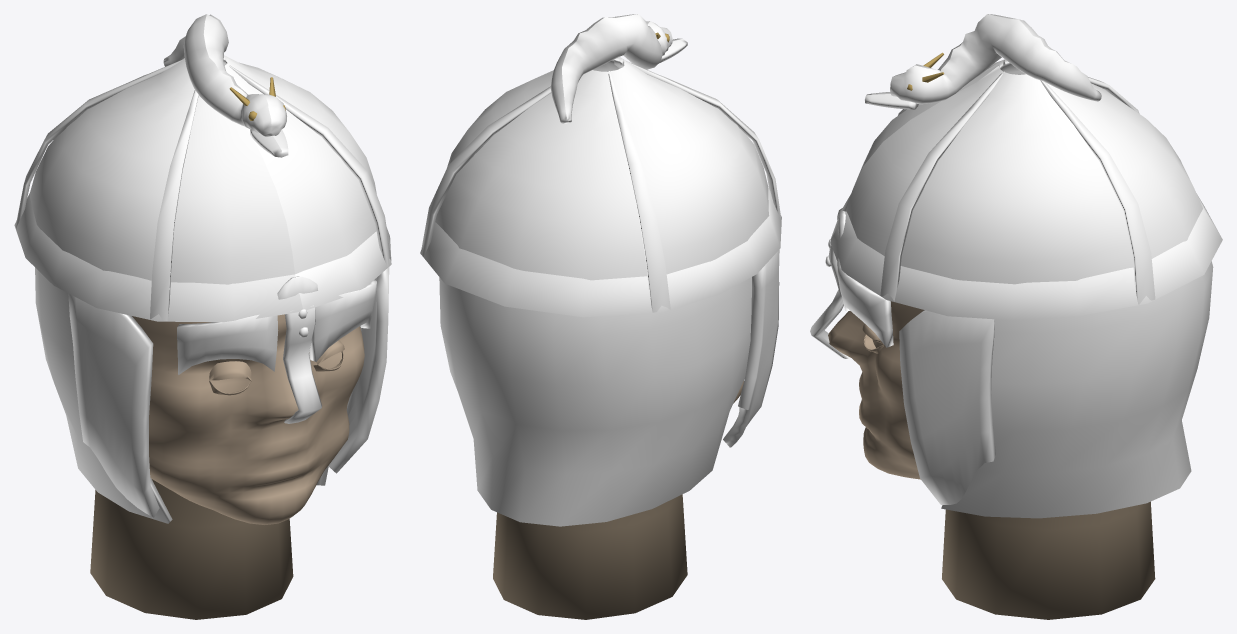
Rendered from helm-berserker-wyrm.glb.
3 views of the same model, side by side, from view 1: azimuth 30°, elevation 25°; view 2: azimuth 150°, elevation 25°; view 3: azimuth 270°, elevation 25° (orthographic). The views are drawn at different scales.
Parts seen in each view (by area): view 1: helm-berserker-wyrm; view 2: helm-berserker-wyrm; view 3: helm-berserker-wyrm.
Part boxes in pixels (x1,y1,x2,y2): helm-berserker-wyrm: (14, 14, 391, 619); helm-berserker-wyrm: (420, 14, 781, 619); helm-berserker-wyrm: (810, 14, 1222, 619).
Bounding box in the file's own units: 0.2554 × 0.4475 × 0.2993.
